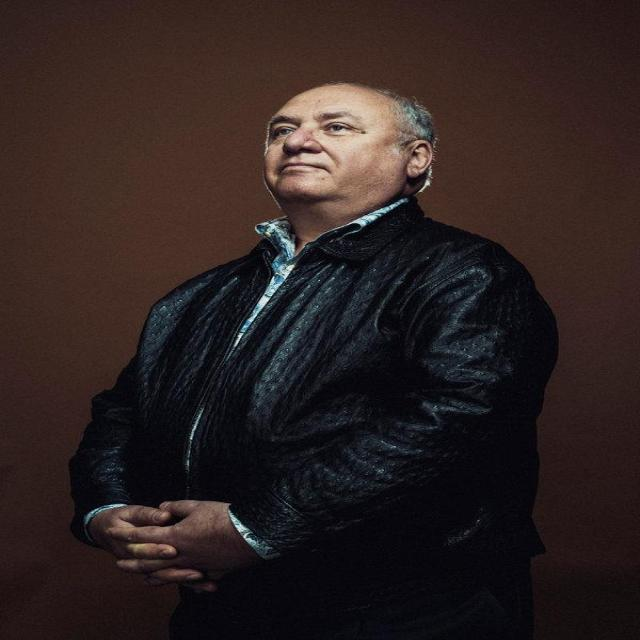mobile_phonerotation: (67, 80, 560, 637)
